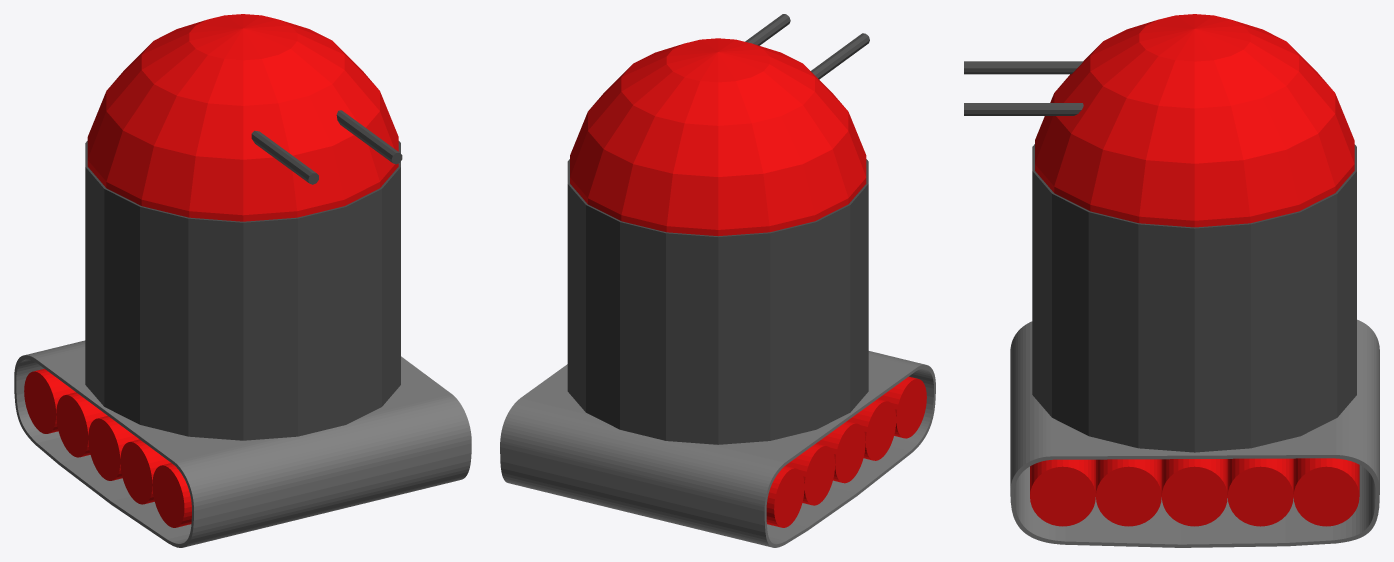
The model's file is Druide1.fbx.
The picture shows the model from 3 angles, left to right: view 1: azimuth 30°, elevation 25°; view 2: azimuth 150°, elevation 25°; view 3: azimuth 270°, elevation 25°; orthographic projection. The views are drawn at different scales.
Parts seen in each view (by area): view 1: Body, Head, Band_2, Band, Roll_0, Roll_1, Roll_2, Roll_4, Roll_3, Muzzle, Muzzle_2; view 2: Body, Head, Band_2, Band, Roll_0, Roll_1, Roll_2, Roll_3, Roll_4, Muzzle, Muzzle_2; view 3: Body, Head, Band_2, Band, Roll_1, Roll_0, Roll_2, Roll_3, Roll_4, Muzzle, Muzzle_2.
Boxes of the visible parts, x1,y1,x2,y2 form: Body: (85,141,400,440); Head: (87,14,398,221); Band_2: (14,340,471,547); Band: (16,358,192,544); Roll_0: (24,369,75,433); Roll_1: (56,392,107,457); Roll_2: (88,416,139,480); Roll_4: (152,463,191,527); Roll_3: (120,439,170,504); Muzzle: (251,130,318,184); Muzzle_2: (336,110,402,164); Body: (567,159,868,444); Head: (570,38,866,236); Band_2: (500,351,935,547); Band: (766,368,934,544); Roll_0: (766,466,804,527); Roll_1: (785,443,835,505); Roll_2: (816,421,865,483); Roll_3: (847,399,896,460); Roll_4: (878,376,926,438); Muzzle: (811,33,869,79); Muzzle_2: (745,14,790,45); Body: (1032,144,1356,452); Head: (1035,14,1354,227); Band_2: (1010,319,1379,547); Band: (1014,458,1376,544); Roll_1: (1227,458,1293,526); Roll_0: (1293,458,1359,526); Roll_2: (1161,459,1227,526); Roll_3: (1096,459,1161,526); Roll_4: (1030,459,1095,526); Muzzle: (964,61,1083,74); Muzzle_2: (964,103,1083,115).
Size of the model in its own units: 100 by 150 by 126.
